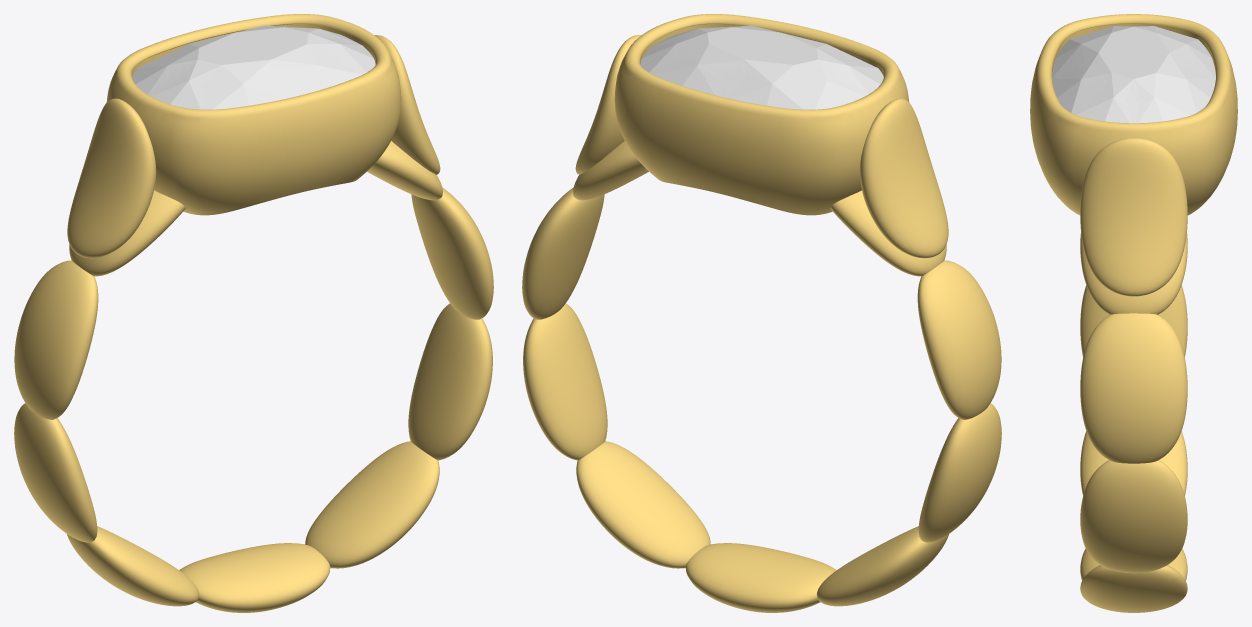
Rendered from SteveYGcushionring_blender.glb.
3 views of the same model, side by side, from view 1: azimuth 30°, elevation 25°; view 2: azimuth 150°, elevation 25°; view 3: azimuth 270°, elevation 25° (orthographic). The views are drawn at different scales.
Parts seen in each view (by area): view 1: Steve YG for 3d model, Steve dia for 3d model; view 2: Steve YG for 3d model, Steve dia for 3d model; view 3: Steve YG for 3d model, Steve dia for 3d model.
Boxes of the visible parts, x1,y1,x2,y2 form: Steve YG for 3d model: (14, 14, 493, 612); Steve dia for 3d model: (132, 25, 375, 109); Steve YG for 3d model: (522, 14, 1001, 612); Steve dia for 3d model: (640, 25, 883, 109); Steve YG for 3d model: (1030, 14, 1237, 612); Steve dia for 3d model: (1052, 26, 1215, 123).
Size of the model in its own units: 19.78 by 23.19 by 8.13.
